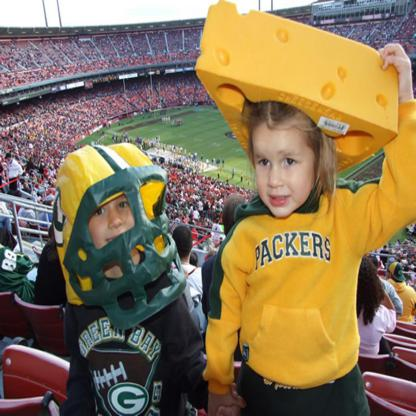face: (254, 118, 313, 219), (90, 175, 141, 256)
